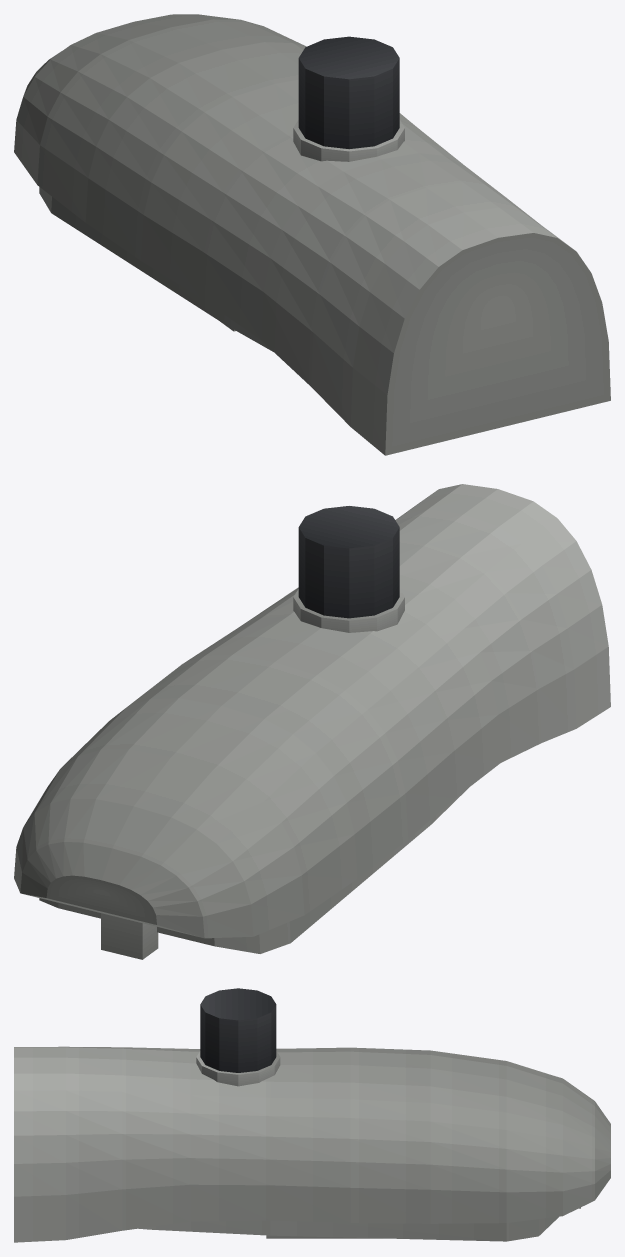
Rendered from streetlight_gem400r2cu.obj.
3 views of the same model, one above another, from view 1: azimuth 30°, elevation 25°; view 2: azimuth 150°, elevation 25°; view 3: azimuth 270°, elevation 25° (orthographic). The views are drawn at different scales.
Parts seen in each view (by area): view 1: fixture; view 2: fixture; view 3: fixture.
Boxes of the visible parts, x1,y1,x2,y2 form: fixture: [14, 14, 610, 455]; fixture: [14, 484, 610, 959]; fixture: [14, 988, 610, 1242].
Size of the model in its own units: 0.3687 by 0.3419 by 0.9312.
